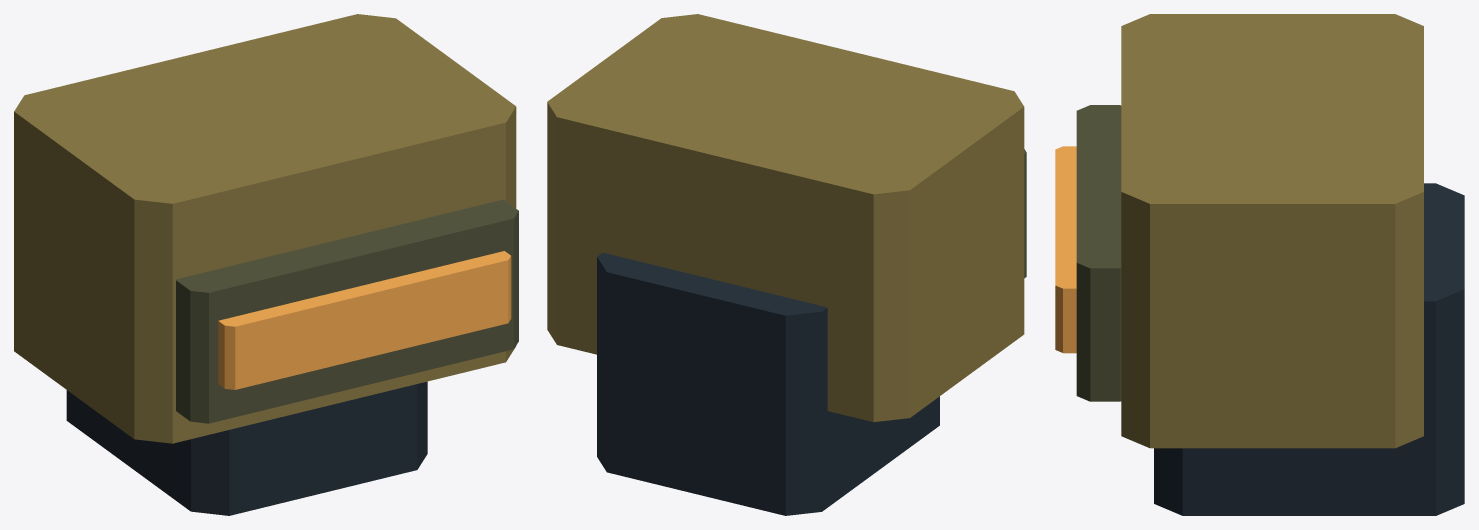
File: enemy_gunner_lod_head.obj
3 views of the same model, side by side, from view 1: azimuth 30°, elevation 25°; view 2: azimuth 150°, elevation 25°; view 3: azimuth 270°, elevation 25° (orthographic). The views are drawn at different scales.
Size of the model in its own units: 0.55 by 0.47 by 0.501.
